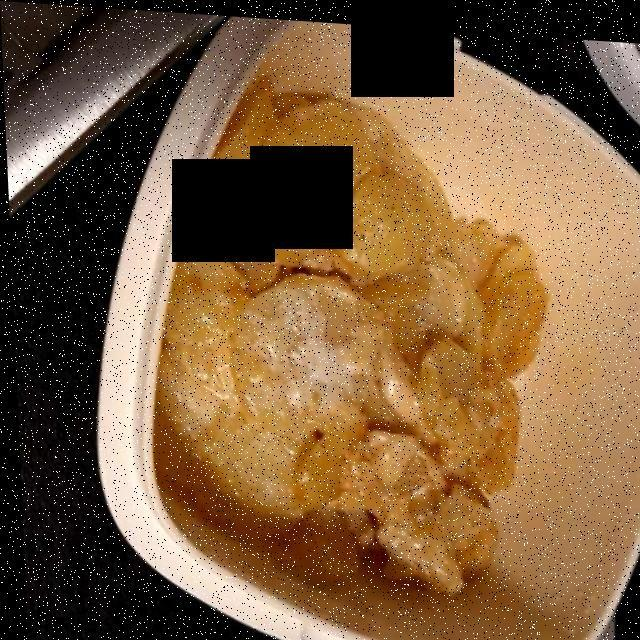potatoes: (160, 89, 540, 582)
